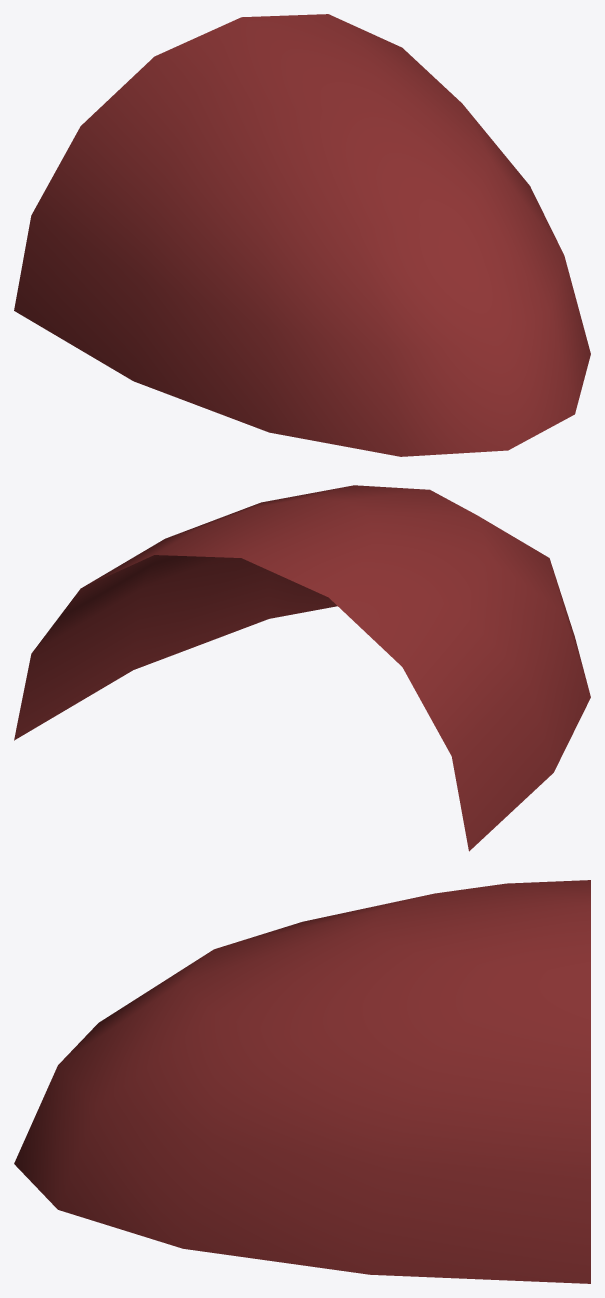
Rendered from ddddd.FBX.
The picture shows the model from 3 angles, top to bottom: view 1: azimuth 30°, elevation 25°; view 2: azimuth 150°, elevation 25°; view 3: azimuth 270°, elevation 25°; orthographic projection. The views are drawn at different scales.
Parts seen in each view (by area): view 1: Sphere001; view 2: Sphere001; view 3: Sphere001.
Part boxes in pixels (x1,y1,x2,y2): Sphere001: [14, 14, 590, 456]; Sphere001: [14, 485, 590, 851]; Sphere001: [14, 880, 590, 1283].
Bounding box in the file's own units: 49.12 × 24.56 × 49.88.
